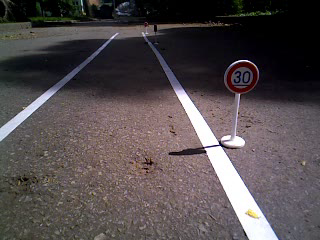limit 30: (223, 58, 260, 95)
